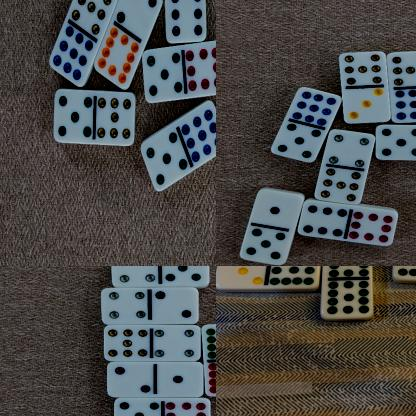pip-1: (251, 188, 302, 230), (154, 361, 204, 398)
pip-10: (96, 27, 140, 89), (115, 0, 161, 35)
pip-11: (320, 278, 374, 318), (267, 266, 320, 288), (200, 323, 216, 361), (323, 266, 371, 278)
pip-12: (202, 360, 216, 396)
pip-2: (150, 288, 198, 324), (106, 361, 154, 396)
pip-3: (340, 87, 390, 124), (216, 266, 265, 288)
pip-4: (150, 324, 201, 361), (327, 128, 373, 168), (101, 287, 149, 325), (109, 266, 159, 287)
pip-5: (140, 131, 187, 191), (141, 48, 183, 101), (53, 89, 95, 142), (269, 123, 321, 162), (239, 227, 287, 265), (375, 124, 416, 160), (158, 266, 208, 287), (113, 398, 162, 416)
pip-6: (298, 199, 346, 242), (164, 0, 206, 42)
pip-7: (95, 90, 136, 145), (314, 168, 368, 204), (336, 50, 386, 85), (103, 324, 151, 360), (71, 0, 113, 35), (386, 50, 416, 88)
pip-8: (184, 39, 216, 97), (347, 209, 397, 245), (162, 398, 211, 416)
pip-9: (48, 24, 94, 86), (180, 99, 216, 166), (288, 85, 340, 127), (389, 87, 416, 122)
